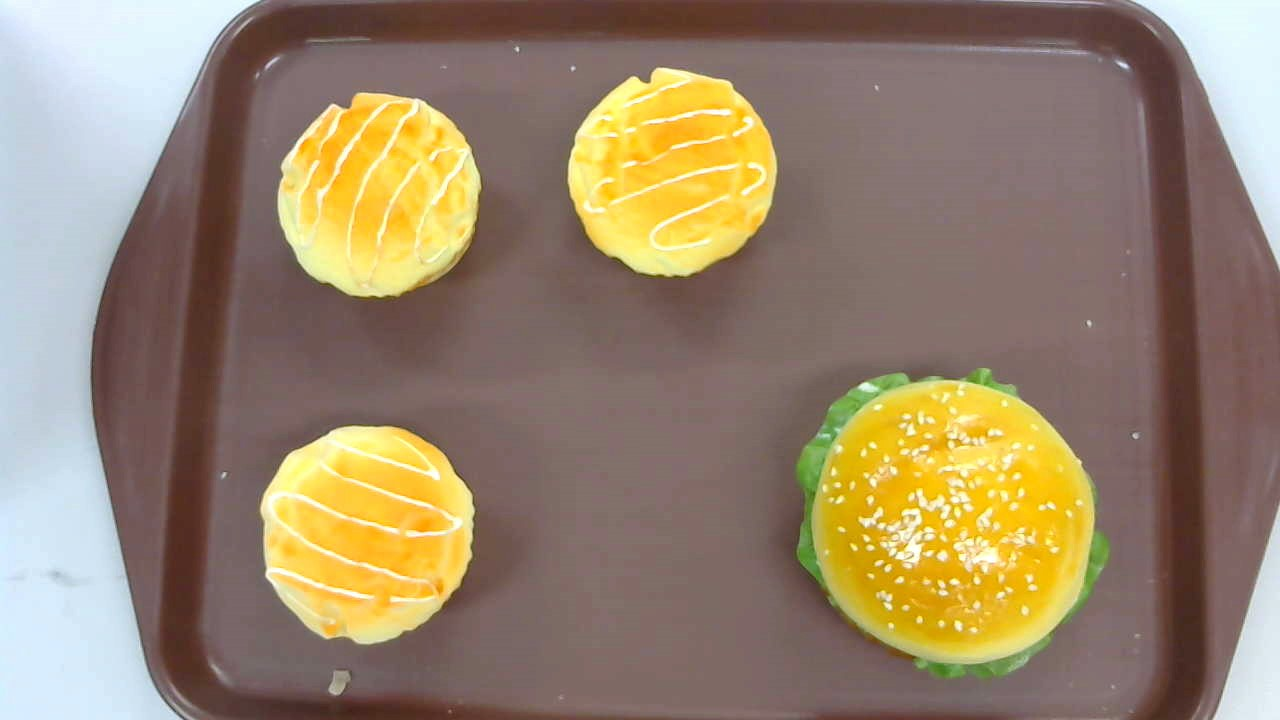cupcake: (259, 426, 475, 646), (568, 64, 778, 277), (277, 91, 481, 297)
hamburger: (796, 366, 1110, 680)
